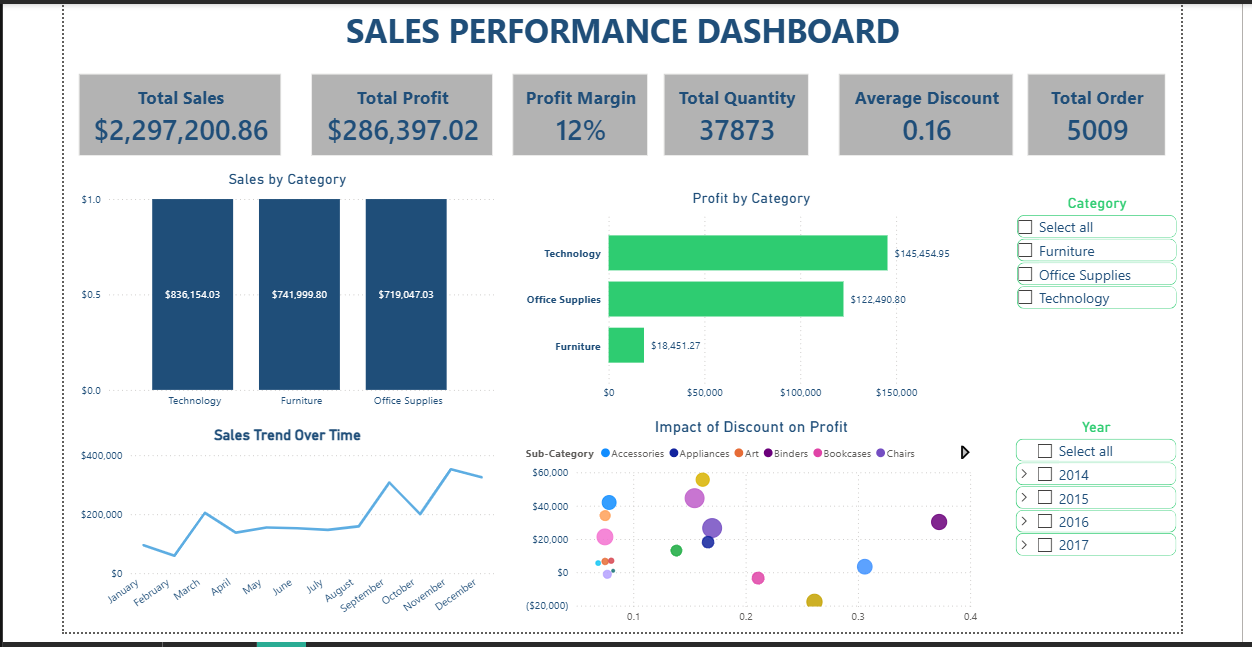

What the dashboard file says about the page in this screenshot:
{"tool":"powerbi","page":{"name":"Page 1","canvas":[1280,720],"ordinal":0},"visuals":[{"type":"cardVisual","fields":{"Data":["SuperStoreSalesDataSet.Total Sales"]},"box":[0,62.4,266.7,128.6],"z":0},{"type":"textbox","box":[0,0,1280.3,62.1],"z":1000},{"type":"cardVisual","fields":{"Data":["SuperStoreSalesDataSet.Total Profit"]},"box":[266.7,62.4,242.1,128.6],"z":2000},{"type":"cardVisual","fields":{"Data":["SuperStoreSalesDataSet.Total Order"]},"box":[1087.5,62.4,192.9,128.6],"z":3000},{"type":"cardVisual","fields":{"Data":["SuperStoreSalesDataSet.Total Quantity"]},"box":[669.5,62.4,200.5,128.6],"z":4000},{"type":"cardVisual","fields":{"Data":["SuperStoreSalesDataSet.Average Discount"]},"box":[870,62.4,234.5,128.6],"z":5000},{"type":"cardVisual","fields":{"Data":["SuperStoreSalesDataSet.Profit Margin"]},"box":[497.4,62.4,189.1,128.6],"z":6000},{"type":"clusteredColumnChart","title":"Sales by Category","fields":{"Category":["SuperStoreSalesDataSet.Category"],"Y":["SuperStoreSalesDataSet.Total Sales"]},"box":[13.6,190.9,483.3,281.8],"z":7000},{"type":"clusteredBarChart","title":" Profit by Category","fields":{"Category":["SuperStoreSalesDataSet.Category"],"Y":["SuperStoreSalesDataSet.Total Profit"]},"box":[524.2,212.1,527.3,251.5],"z":8000},{"type":"lineChart","title":"Sales Trend Over Time","fields":{"Category":["SuperStoreSalesDataSet.Order Date.Variation.Date Hierarchy.Month"],"Y":["SuperStoreSalesDataSet.Total Sales"]},"box":[13.6,483.3,483.3,236.4],"z":9000},{"type":"scatterChart","title":"Impact of Discount on Profit","fields":{"X":["SuperStoreSalesDataSet.Average Discount"],"Y":["SuperStoreSalesDataSet.Total Profit"],"Size":["SuperStoreSalesDataSet.Total Sales"],"Series":["SuperStoreSalesDataSet.Sub-Category"]},"box":[524.2,474.2,527.3,245.5],"z":10000},{"type":"listSlicer","fields":{"Values":["SuperStoreSalesDataSet.Order Date.Variation.Date Hierarchy.Year","SuperStoreSalesDataSet.Order Date.Variation.Date Hierarchy.Quarter","SuperStoreSalesDataSet.Order Date.Variation.Date Hierarchy.Month","SuperStoreSalesDataSet.Order Date.Variation.Date Hierarchy.Day"]},"box":[1086,474,194,245],"z":10002},{"type":"listSlicer","fields":{"Values":["SuperStoreSalesDataSet.Category"]},"box":[1086.4,218.2,193.9,245.5],"z":10003}]}

Visuals, with their boxes on the page's 1280x720 design canvas (x1, y1, x2, y2). These are canvas units, not pixel positions in the 1252x647 screenshot, which may show the page scaled, cropped or inside an application window:
cardVisual - SuperStoreSalesDataSet.Total Sales: bbox=(0, 62, 267, 191)
textbox: bbox=(0, 0, 1280, 62)
cardVisual - SuperStoreSalesDataSet.Total Profit: bbox=(267, 62, 509, 191)
cardVisual - SuperStoreSalesDataSet.Total Order: bbox=(1088, 62, 1280, 191)
cardVisual - SuperStoreSalesDataSet.Total Quantity: bbox=(670, 62, 870, 191)
cardVisual - SuperStoreSalesDataSet.Average Discount: bbox=(870, 62, 1104, 191)
cardVisual - SuperStoreSalesDataSet.Profit Margin: bbox=(497, 62, 686, 191)
"Sales by Category" clusteredColumnChart: bbox=(14, 191, 497, 473)
" Profit by Category" clusteredBarChart: bbox=(524, 212, 1052, 464)
"Sales Trend Over Time" lineChart: bbox=(14, 483, 497, 720)
"Impact of Discount on Profit" scatterChart: bbox=(524, 474, 1052, 720)
listSlicer - SuperStoreSalesDataSet.Order Date.Variation.Date Hierarchy.Year x SuperStoreSalesDataSet.Order Date.Variation.Date Hierarchy.Quarter: bbox=(1086, 474, 1280, 719)
listSlicer - SuperStoreSalesDataSet.Category: bbox=(1086, 218, 1280, 464)
